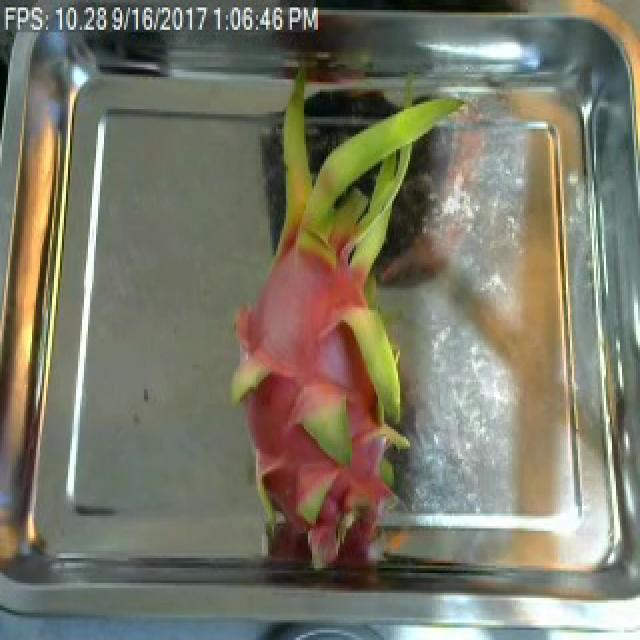fruit: (220, 102, 454, 556)
